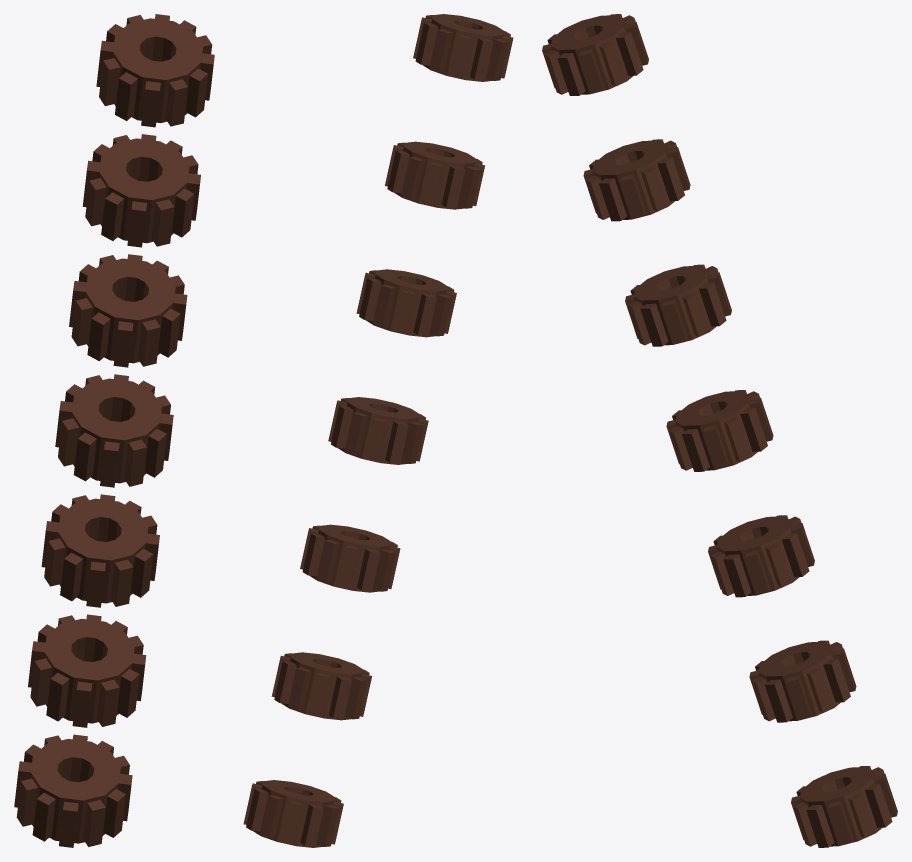
The model's file is Gear_02.fbx.
The picture shows the model from 3 angles, left to right: view 1: azimuth 30°, elevation 25°; view 2: azimuth 150°, elevation 25°; view 3: azimuth 270°, elevation 25°; orthographic projection. The views are drawn at different scales.
Parts seen in each view (by area): view 1: Building.010; view 2: Building.010; view 3: Building.010.
Boxes of the visible parts, box(x1,y1,x2,y2) form: Building.010: box(14, 14, 214, 847); Building.010: box(243, 14, 513, 847); Building.010: box(542, 14, 897, 847).
Bounding box in the file's own units: 1.49 × 7.94 × 3.24.
